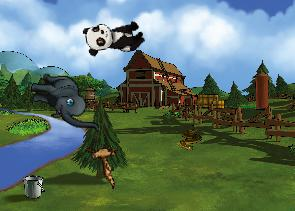eagle: (75, 132, 134, 189)
elephant: (29, 73, 100, 131)
panda: (82, 17, 146, 57)
